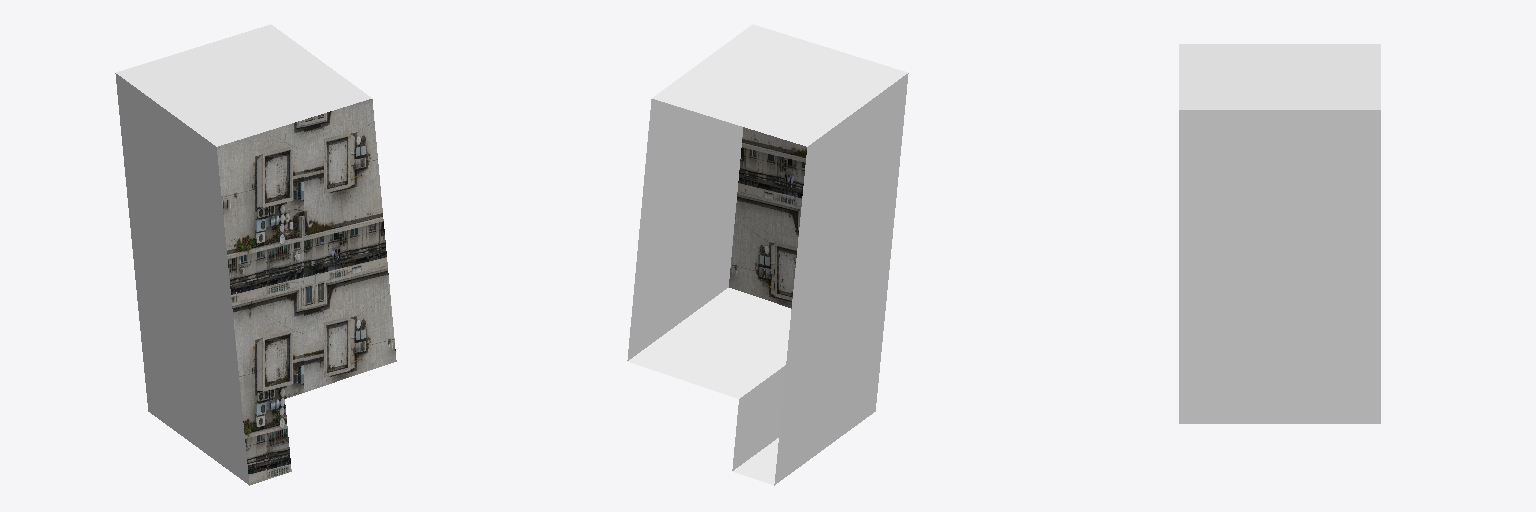
The picture shows the model from 3 angles: view 1: azimuth 30°, elevation 25°; view 2: azimuth 150°, elevation 25°; view 3: azimuth 270°, elevation 25°; orthographic projection.
Visible parts, largest first — view 1: Building; view 2: Building; view 3: Building.
Boxes of the visible parts, <box> form: Building: <box>115,24,396,485</box>; Building: <box>627,24,908,485</box>; Building: <box>1179,44,1380,423</box>.
Size of the model in its own units: 6.15 by 11.67 by 6.
2 materials, 1 textured.